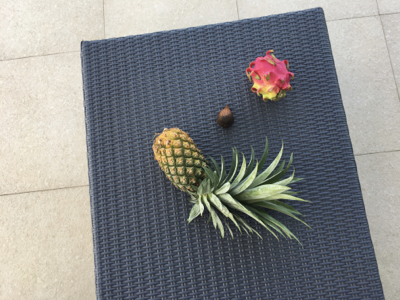dragon fruit: (247, 49, 294, 104)
pineapple: (152, 126, 313, 246)
snake fruit: (218, 105, 235, 129)
